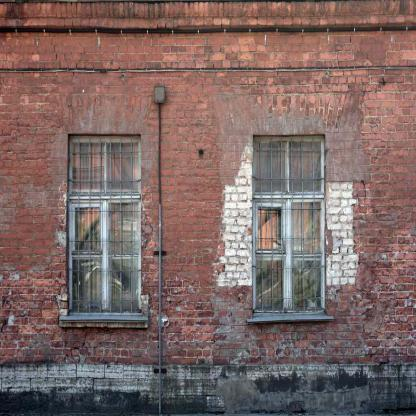Building Outline: (0, 1, 416, 416)
Facade: (0, 1, 416, 416)
Floor: (0, 1, 416, 416)
Sill: (60, 317, 148, 328), (246, 316, 335, 324)
Window: (68, 134, 141, 316), (253, 134, 325, 315)
